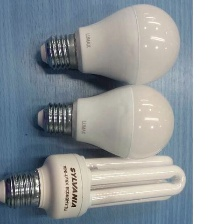light_bulb: (0, 148, 187, 222), (35, 2, 185, 88), (32, 79, 179, 163)
